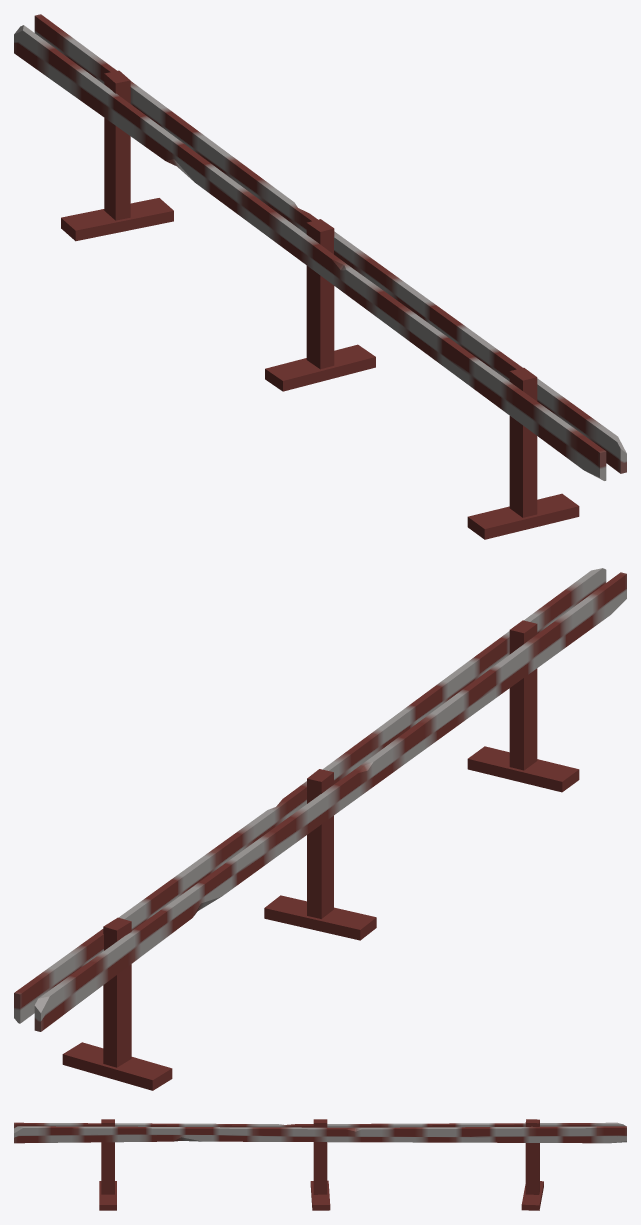
The model's file is SM_Prop_Runway_Barrier_01.glb.
3 views of the same model, one above another, from view 1: azimuth 30°, elevation 25°; view 2: azimuth 150°, elevation 25°; view 3: azimuth 270°, elevation 25° (orthographic). The views are drawn at different scales.
Parts seen in each view (by area): view 1: SM_Prop_Runway_Barrier_01; view 2: SM_Prop_Runway_Barrier_01; view 3: SM_Prop_Runway_Barrier_01.
Boxes of the visible parts, bbox=[...] form: SM_Prop_Runway_Barrier_01: bbox=[14, 14, 626, 539]; SM_Prop_Runway_Barrier_01: bbox=[14, 568, 626, 1090]; SM_Prop_Runway_Barrier_01: bbox=[14, 1119, 626, 1210].
Size of the model in its own units: 1.02 by 1.5 by 10.75.
1 material, 1 textured.
